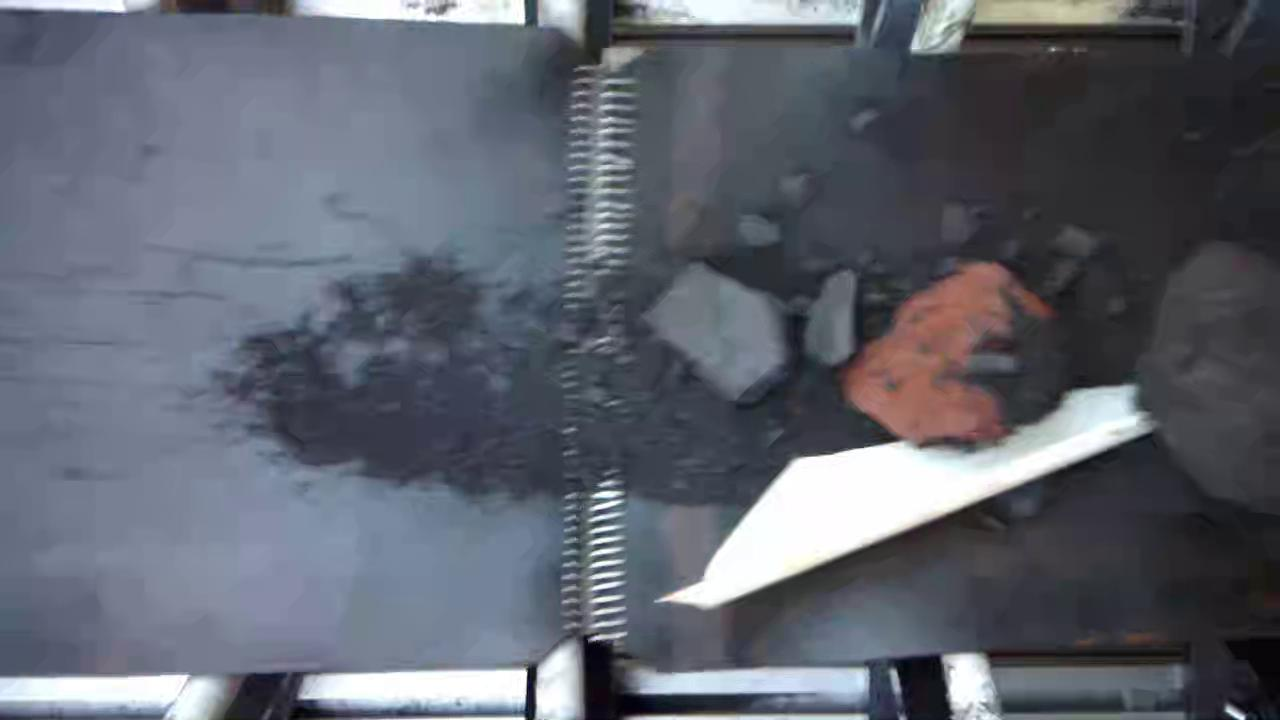conveyor: (15, 59, 1274, 637)
